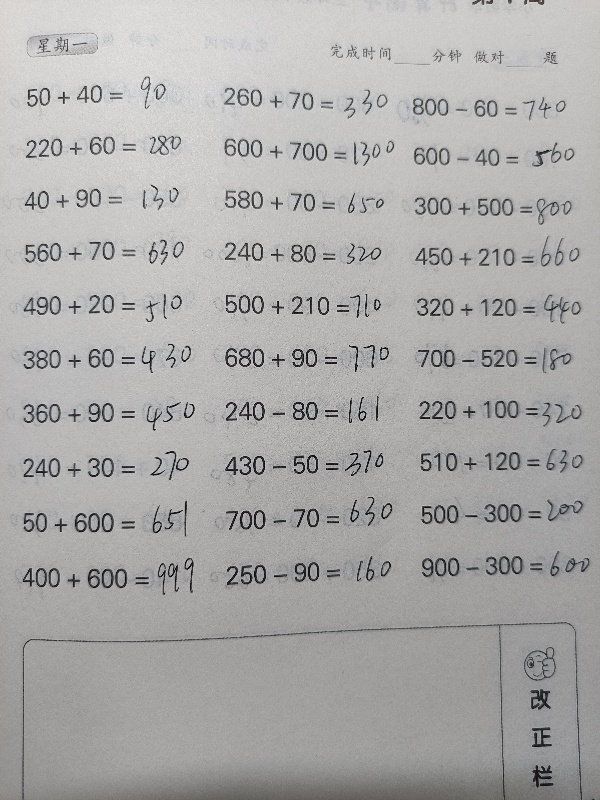equation: (18, 555, 198, 601), (217, 490, 397, 535), (14, 394, 194, 439), (14, 338, 194, 383), (408, 283, 588, 328), (407, 233, 587, 278), (215, 80, 395, 125), (15, 287, 195, 331), (216, 444, 396, 486), (410, 340, 590, 382), (405, 190, 585, 232), (215, 131, 395, 173), (412, 546, 592, 587), (410, 391, 590, 432), (216, 391, 396, 432), (17, 232, 197, 273), (411, 440, 591, 479), (216, 286, 396, 325), (403, 89, 583, 127), (217, 554, 397, 591), (412, 493, 592, 530), (215, 340, 395, 377), (216, 235, 396, 272), (216, 183, 396, 220), (15, 505, 195, 540), (15, 450, 195, 485), (16, 181, 196, 216), (405, 139, 585, 173), (17, 129, 197, 163), (18, 78, 198, 112)
